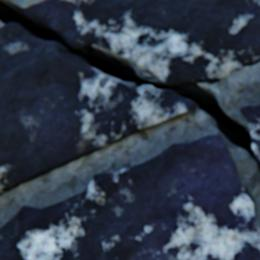brick: (0, 133, 259, 259), (240, 106, 259, 161)
broken_brick: (0, 23, 197, 195), (23, 0, 259, 86)
crack: (0, 0, 259, 164)
